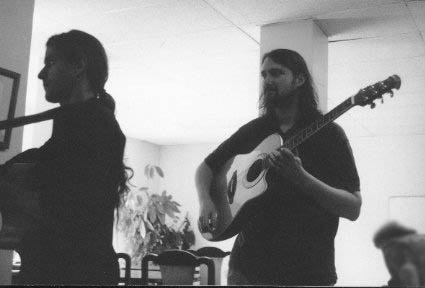person: (194, 47, 362, 288)
